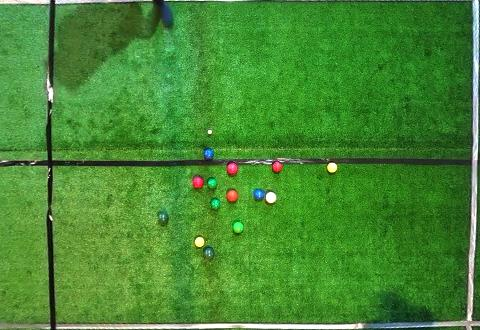blue: (203, 148, 214, 160), (254, 189, 264, 200)
green: (203, 247, 214, 259), (233, 221, 244, 233), (158, 212, 169, 224), (207, 177, 217, 190), (210, 198, 220, 210)
red: (265, 191, 277, 204), (271, 161, 283, 173), (193, 176, 204, 189), (227, 162, 238, 175), (227, 190, 238, 202)
vline: (1, 1, 58, 329), (462, 1, 479, 329)
white: (208, 130, 212, 134)
yellow: (327, 162, 338, 173), (195, 237, 205, 248)
